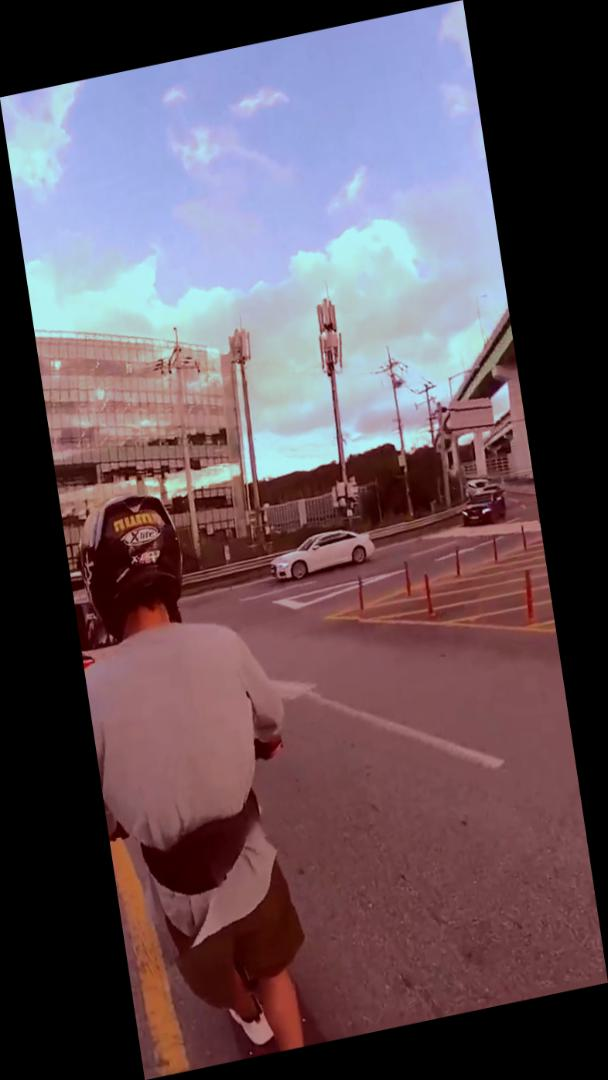helmet: (61, 467, 332, 1080)
